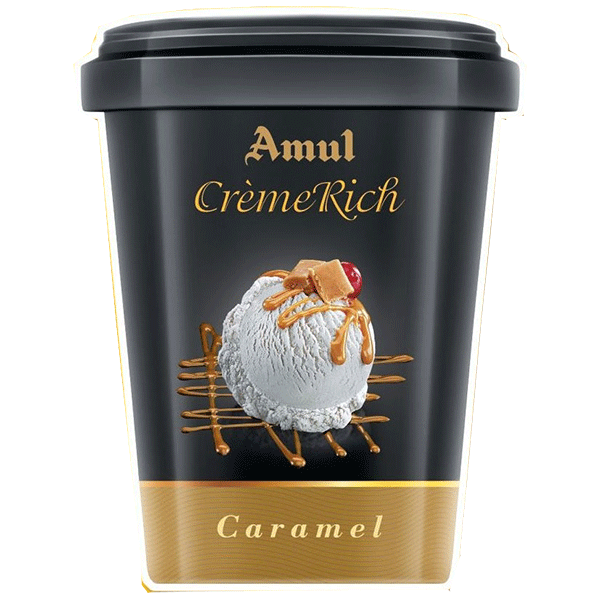Amul: (227, 115, 371, 174)
